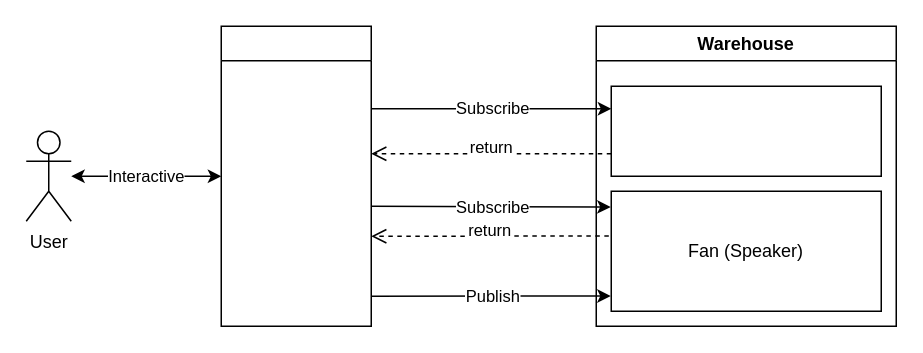
This 923x353 diagram has some shape labels left out. The centre of each missing label's shape, as x and y in pixels:
"Mobile App" goes at [295,175].
"Temperature and Humidity Sensor" goes at [745,130].
